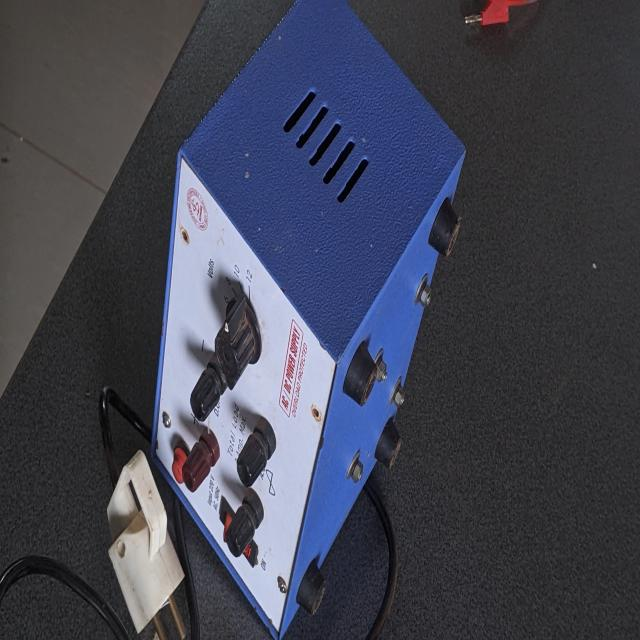Analog DC Power Supply: (134, 9, 471, 629)
